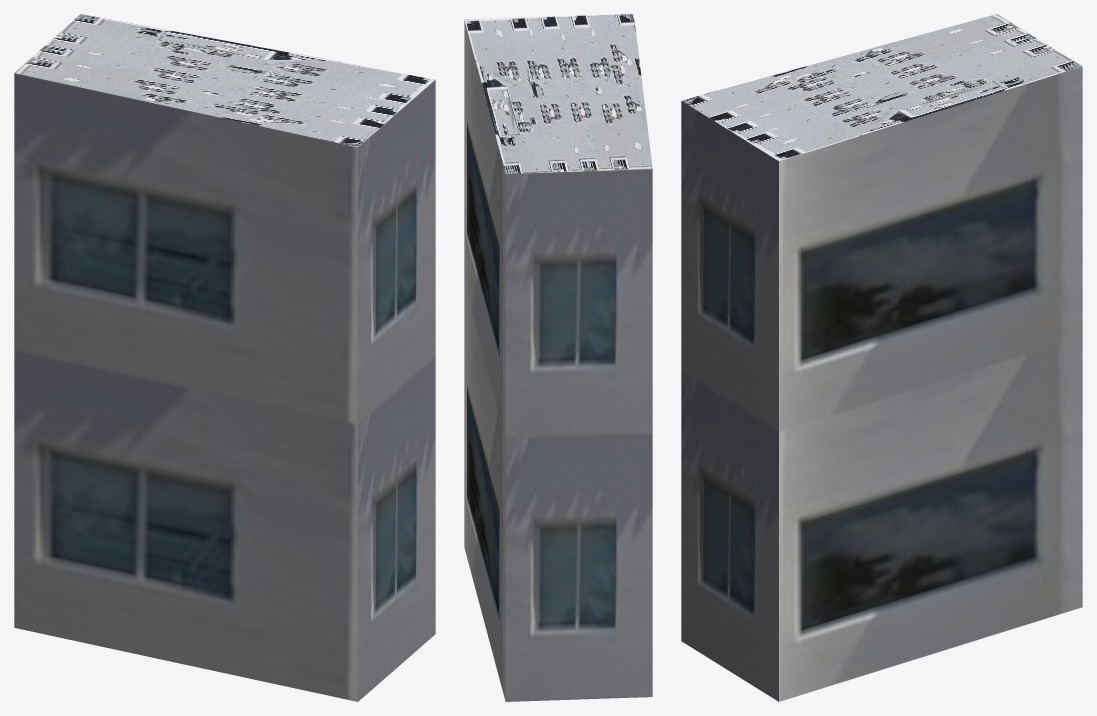
The model's file is ResTex__3952.fbx.
The picture shows the model from 3 angles, left to right: view 1: azimuth 30°, elevation 25°; view 2: azimuth 150°, elevation 25°; view 3: azimuth 270°, elevation 25°; orthographic projection. The views are drawn at different scales.
Parts seen in each view (by area): view 1: CityEngineMaterial_10_m, CityEngineMaterial_4_m; view 2: CityEngineMaterial_10_m, CityEngineMaterial_4_m; view 3: CityEngineMaterial_10_m, CityEngineMaterial_4_m.
Part boxes in pixels (x1,y1,x2,y2): CityEngineMaterial_10_m: (14, 73, 435, 701); CityEngineMaterial_4_m: (14, 14, 435, 147); CityEngineMaterial_10_m: (464, 20, 652, 701); CityEngineMaterial_4_m: (464, 14, 652, 173); CityEngineMaterial_10_m: (681, 66, 1082, 701); CityEngineMaterial_4_m: (681, 14, 1082, 161).
Size of the model in its own units: 3.51 by 6 by 4.04.
Materials: 2 (2 with a texture image).
